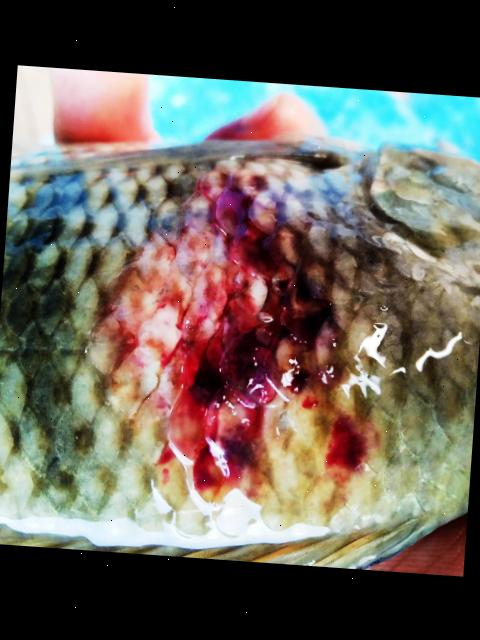Columnaris Disease: (0, 140, 480, 547)
